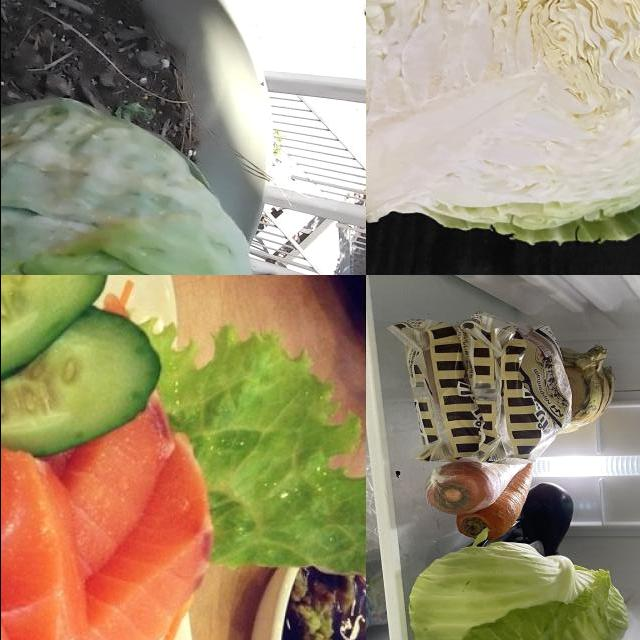cabbage: (366, 1, 640, 247), (1, 91, 273, 276), (407, 543, 628, 640)
carrot: (460, 464, 534, 544), (429, 460, 531, 516)
cucumber: (1, 317, 154, 452), (1, 276, 114, 426)
eggplant: (518, 487, 572, 559)
onion: (550, 345, 618, 436)
